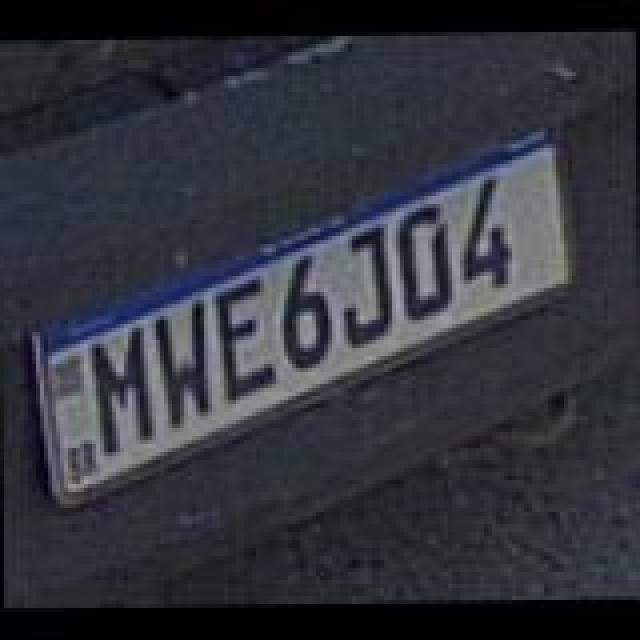4: (460, 186, 512, 298)
6: (288, 260, 336, 372)
D: (400, 210, 456, 322)
E: (218, 280, 278, 404)
J: (344, 228, 400, 348)
M: (90, 330, 154, 462)
W: (154, 302, 214, 430)
